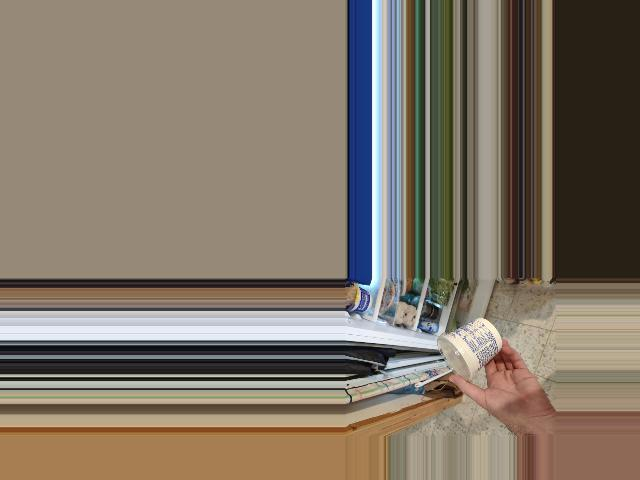cotage: (441, 324, 504, 386)
